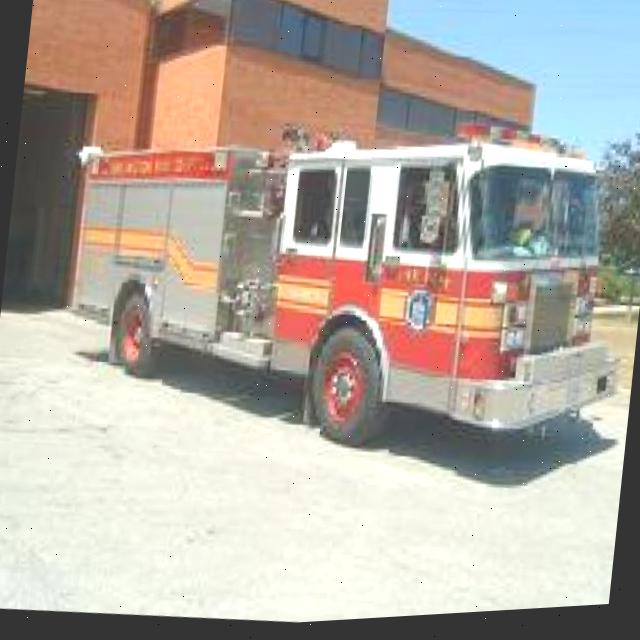emergency: (43, 72, 640, 493)
